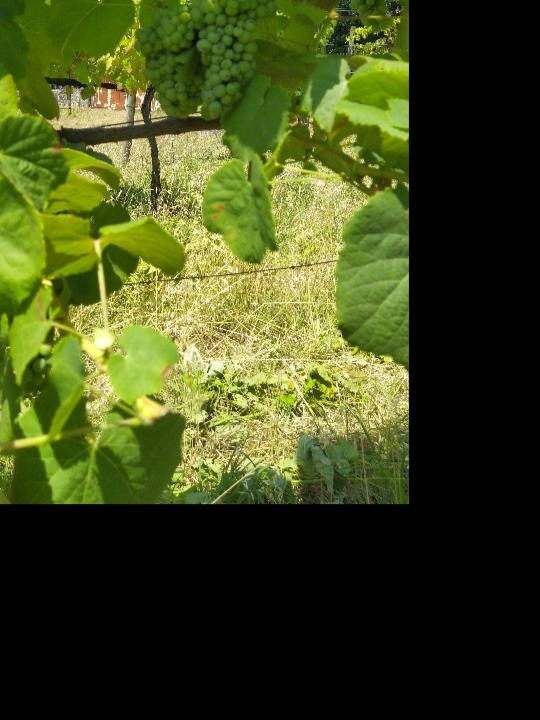grape: (195, 0, 278, 122), (132, 7, 207, 121)
